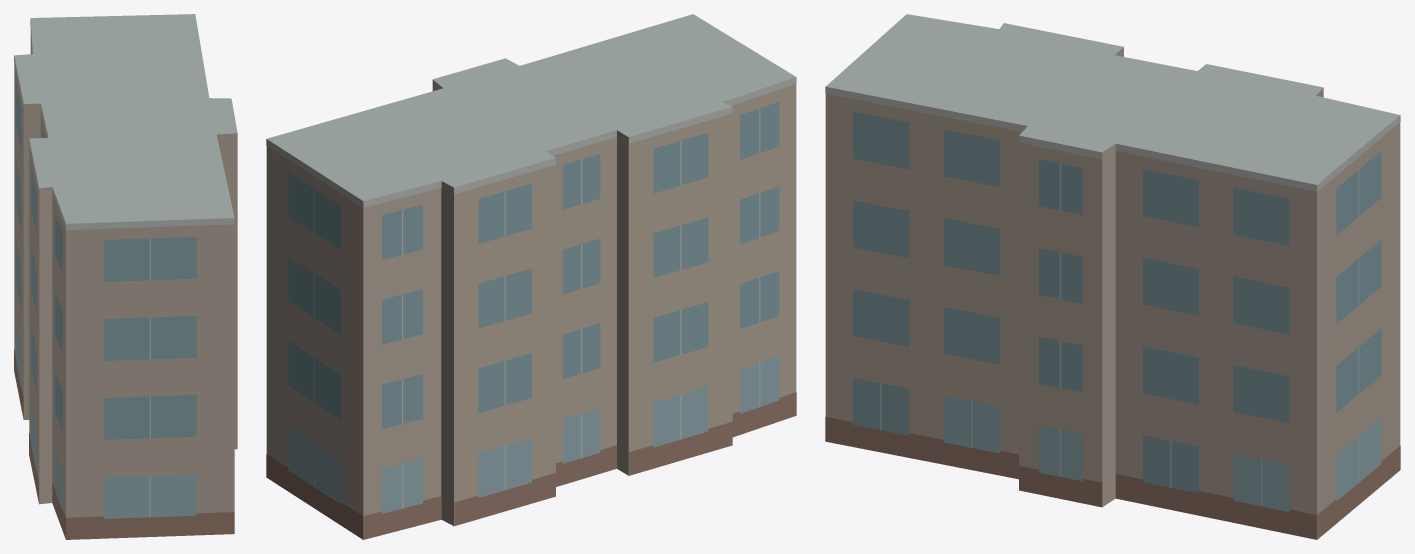
The model's file is survey-upis-32910462.glb.
The picture shows the model from 3 angles, left to right: view 1: azimuth 30°, elevation 25°; view 2: azimuth 150°, elevation 25°; view 3: azimuth 270°, elevation 25°; orthographic projection. The views are drawn at different scales.
Visible parts, largest first — view 1: survey-upis-32910462.tmp; view 2: survey-upis-32910462.tmp; view 3: survey-upis-32910462.tmp.
Boxes of the visible parts, x1=… form: survey-upis-32910462.tmp: x1=14, y1=14, x2=237, y2=539; survey-upis-32910462.tmp: x1=266, y1=14, x2=796, y2=539; survey-upis-32910462.tmp: x1=825, y1=14, x2=1400, y2=539.
Bounding box in the file's own units: 12.71 × 12.3 × 18.07.
